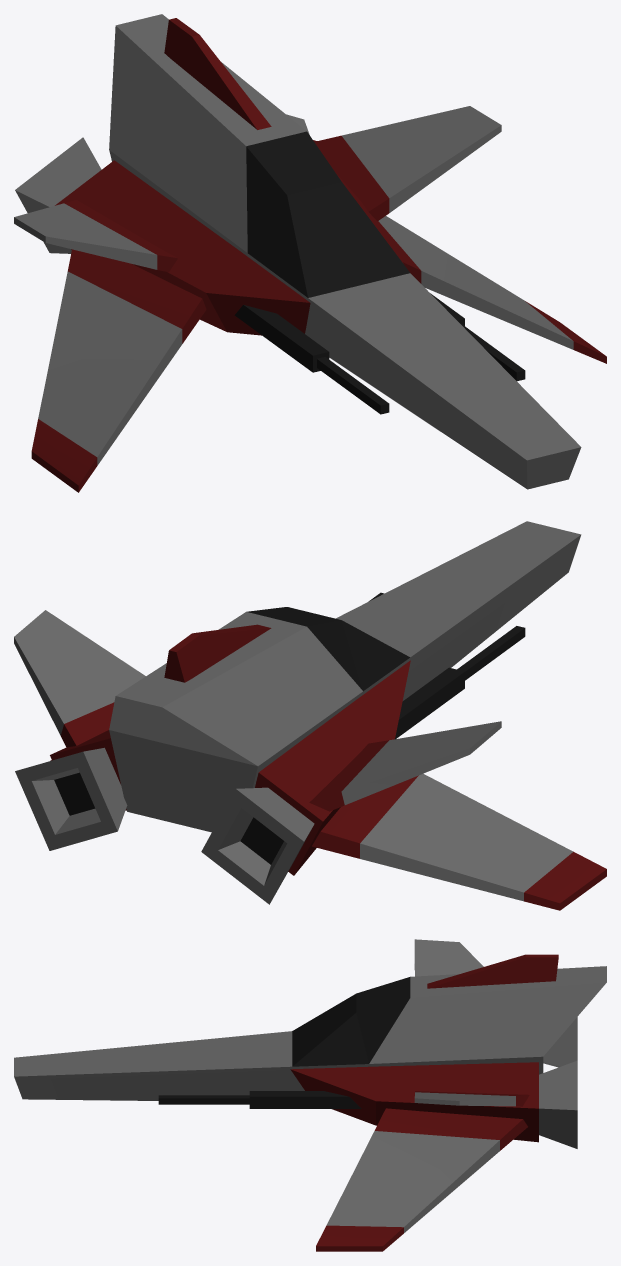
The model's file is Lo_poly_Spaceship_05_by_Liz_Reddington.obj.
3 renders of one model, top to bottom at view 1: azimuth 30°, elevation 25°; view 2: azimuth 150°, elevation 25°; view 3: azimuth 270°, elevation 25°, orthographic. The views are drawn at different scales.
Visible parts, largest first — view 1: Lo_poly_Spaceship_05_by_Liz_Reddington; view 2: Lo_poly_Spaceship_05_by_Liz_Reddington; view 3: Lo_poly_Spaceship_05_by_Liz_Reddington.
Boxes of the visible parts, <box> form: Lo_poly_Spaceship_05_by_Liz_Reddington: <box>14,14,606,492</box>; Lo_poly_Spaceship_05_by_Liz_Reddington: <box>14,521,606,910</box>; Lo_poly_Spaceship_05_by_Liz_Reddington: <box>14,939,606,1251</box>.
Bounding box in the file's own units: 466 × 240 × 634.
